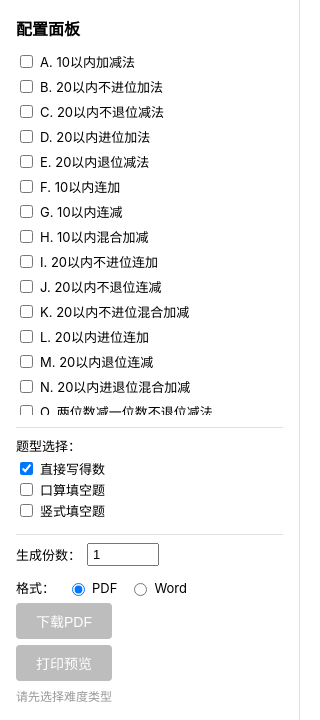
ConfigPanel › shows count input with default 50 when level is checked
Click the checkbox with test id "check-a".
click(26, 62)  # box top-left (20, 55), bottom-right (33, 68)
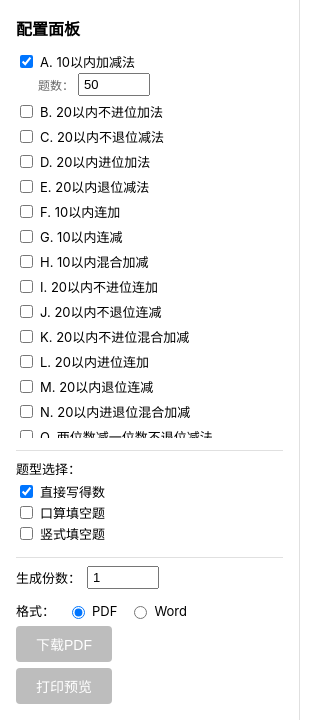
Expected: the number field with test id "count-a" holds "50", top-left (78, 73), bottom-right (150, 96)
